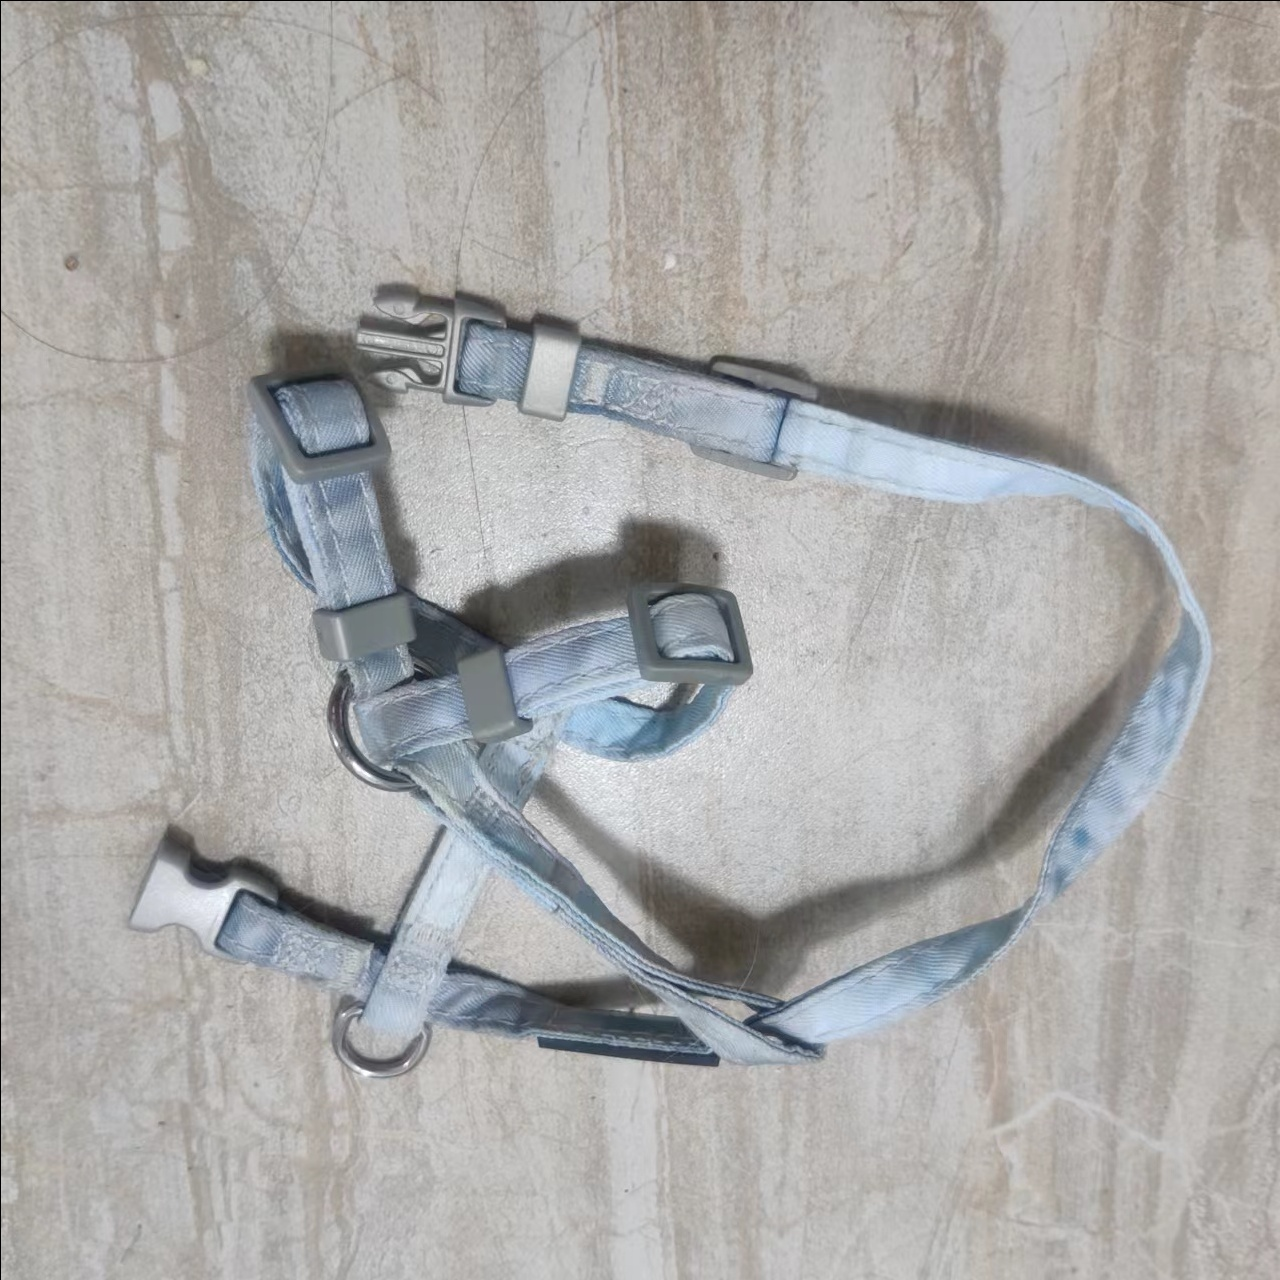9/可回收垃圾/绳子: (129, 287, 1212, 1080)
